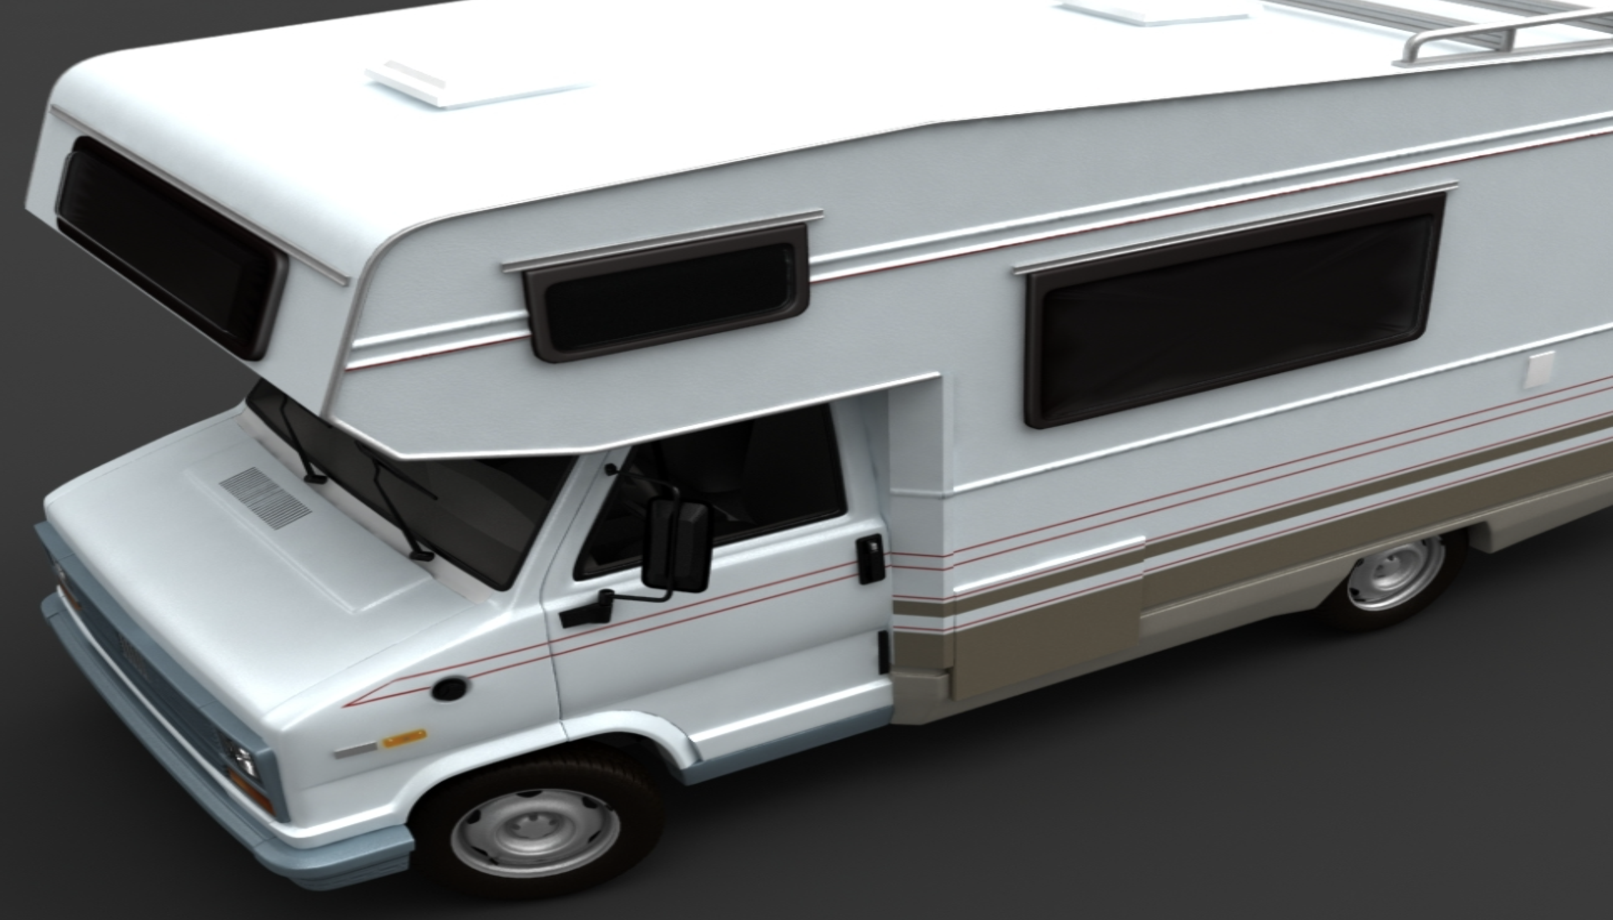hatch: (424, 665, 477, 712)
